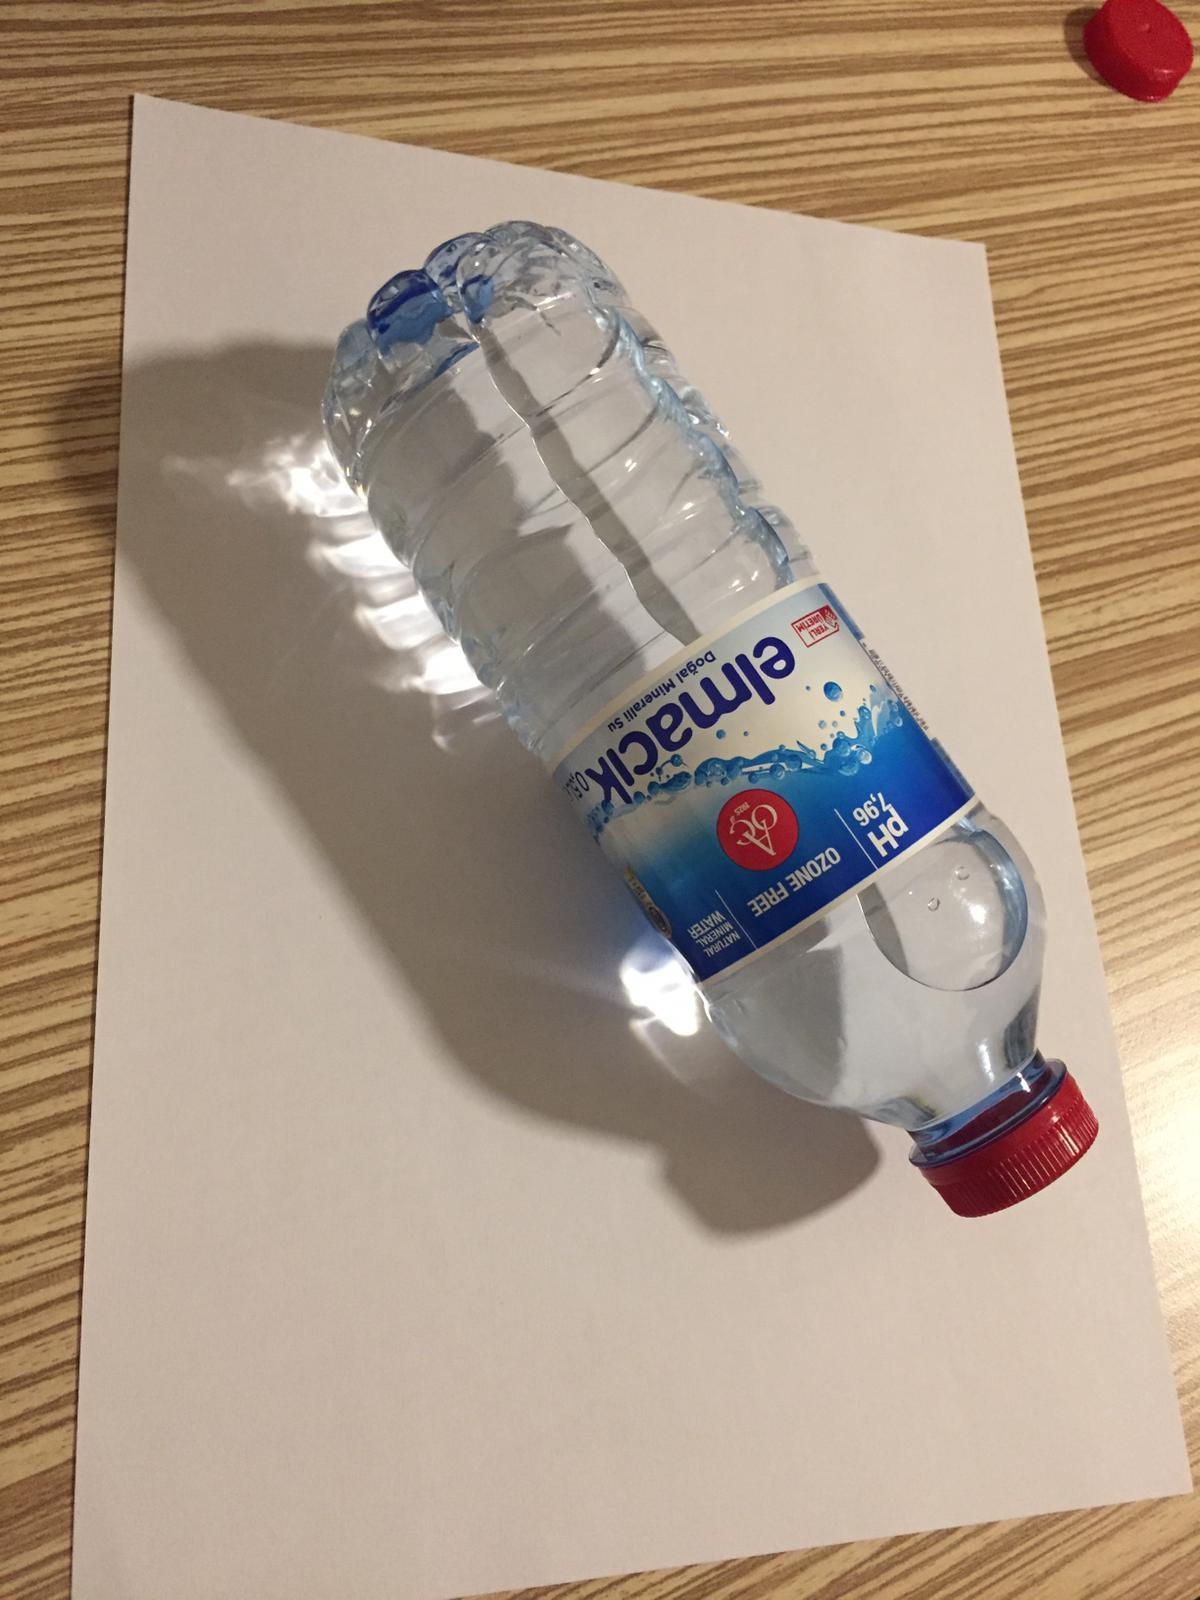bottle: (332, 210, 1103, 1217)
